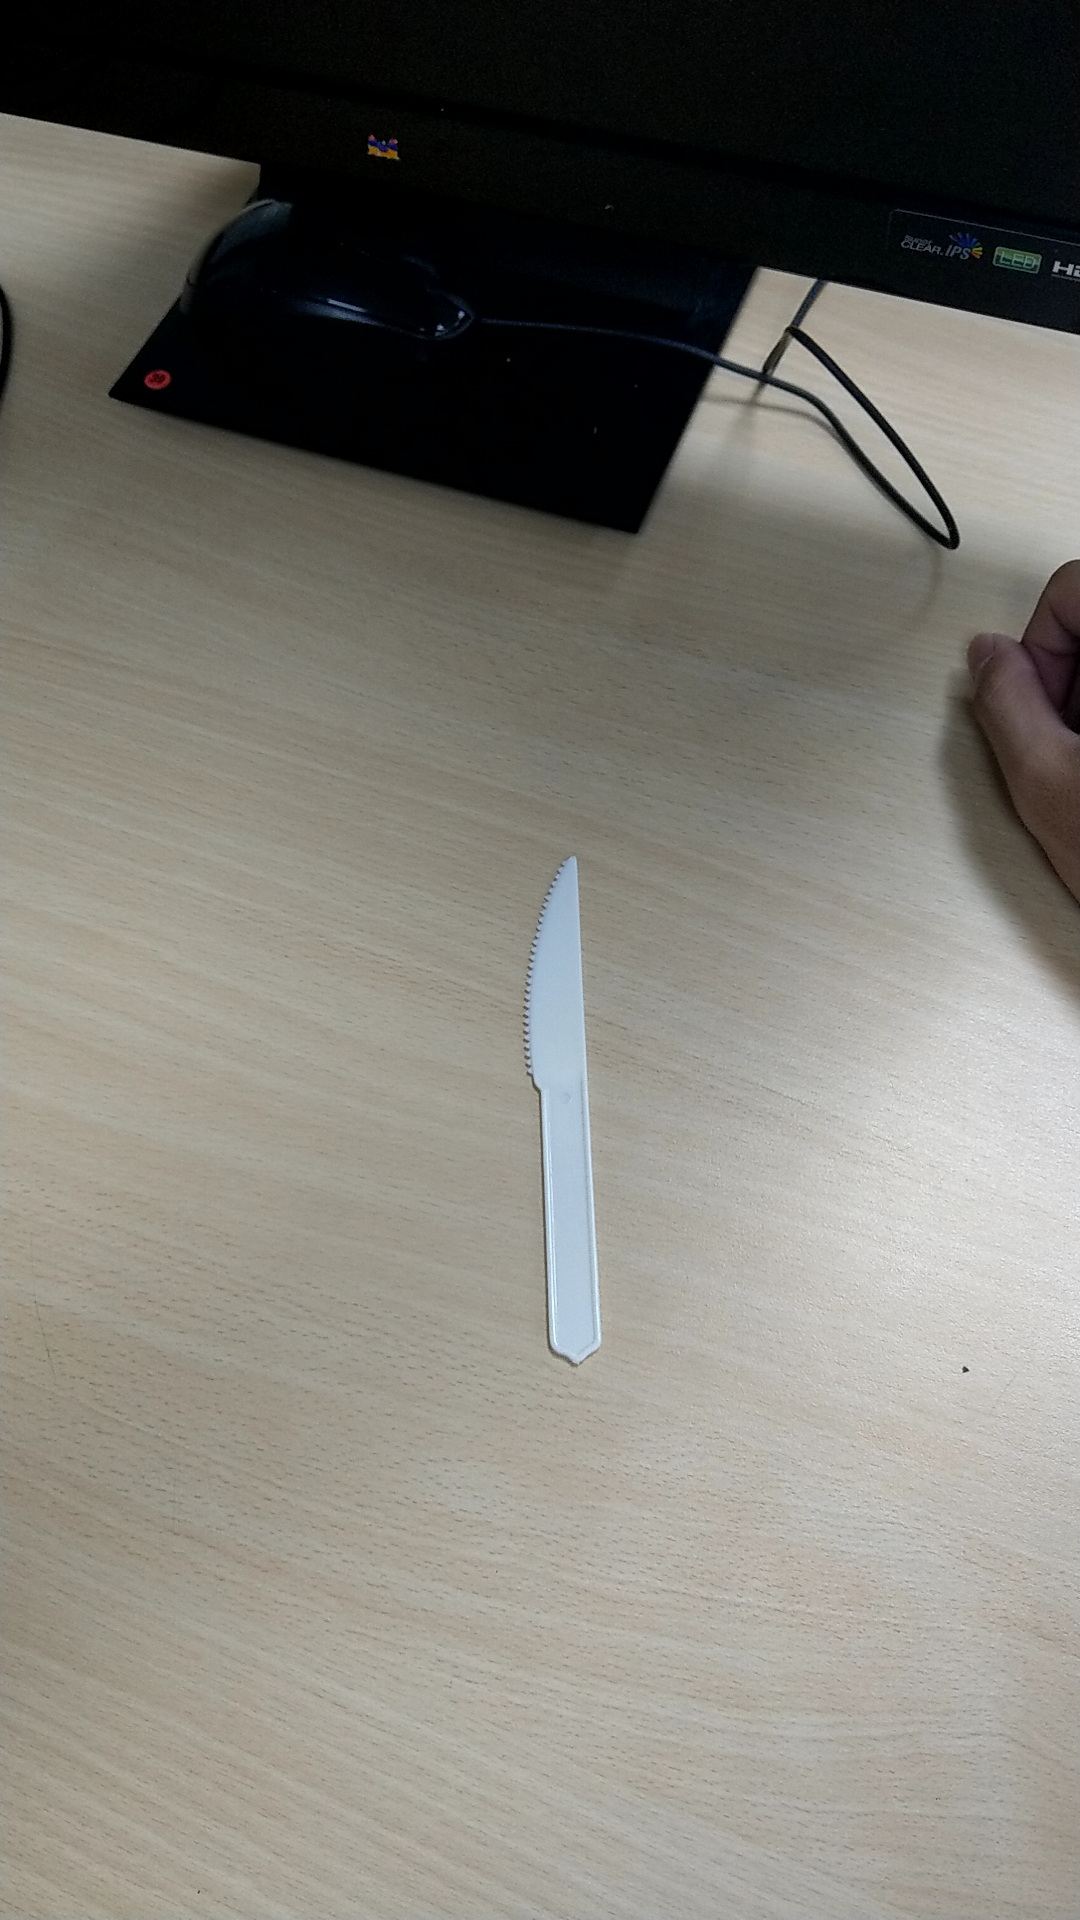knife: (502, 851, 645, 1367)
